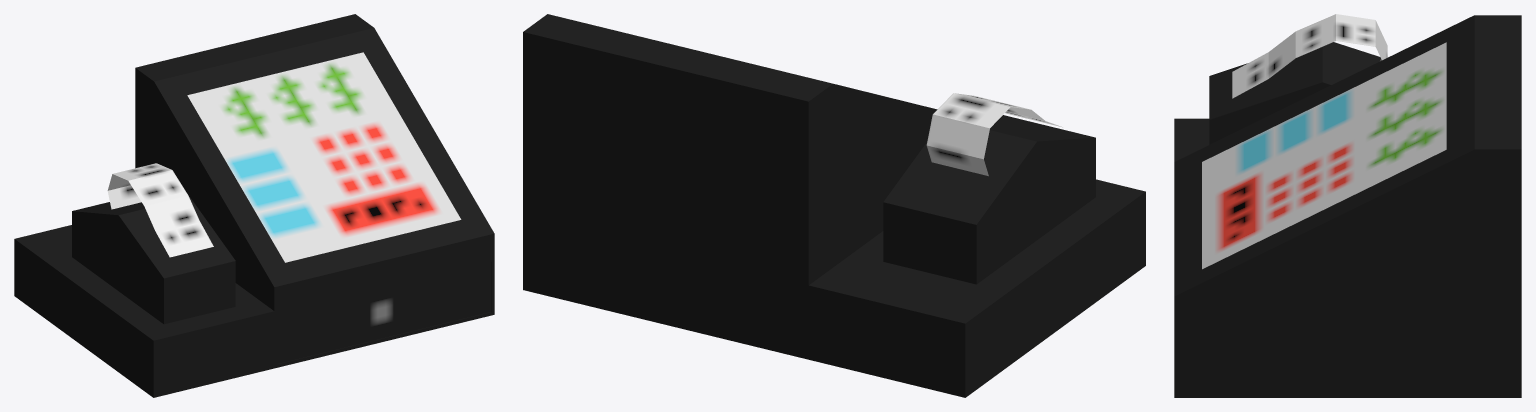
The model's file is CashRegister.fbx.
3 views of the same model, side by side, from view 1: azimuth 30°, elevation 25°; view 2: azimuth 150°, elevation 25°; view 3: azimuth 270°, elevation 25° (orthographic). The views are drawn at different scales.
Visible parts, largest first — view 1: Cash Register.002; view 2: Cash Register.002; view 3: Cash Register.002.
Boxes of the visible parts, x1,y1,x2,y2 form: Cash Register.002: (14,14,494,397); Cash Register.002: (523,14,1145,397); Cash Register.002: (1174,14,1521,397).
Size of the model in its own units: 89.37 by 49.82 by 63.15.
